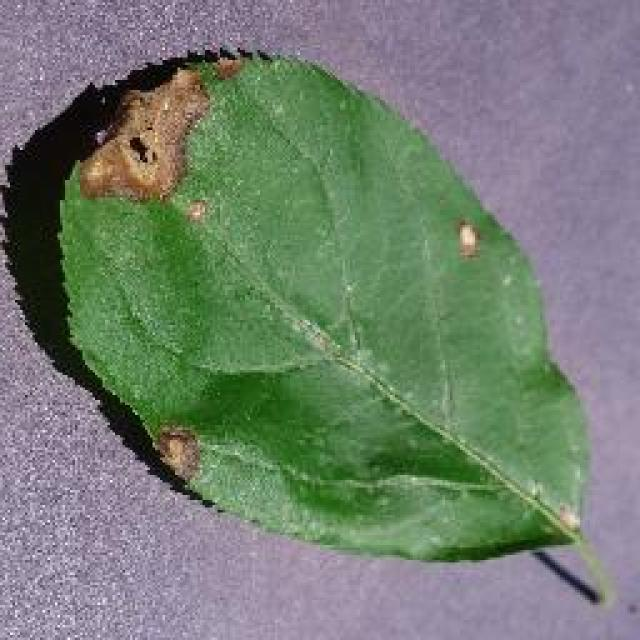apple black rot: (0, 40, 610, 602)
